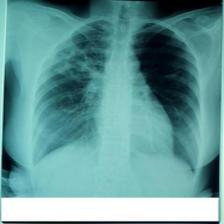tuberculosis: (4, 11, 218, 198)
